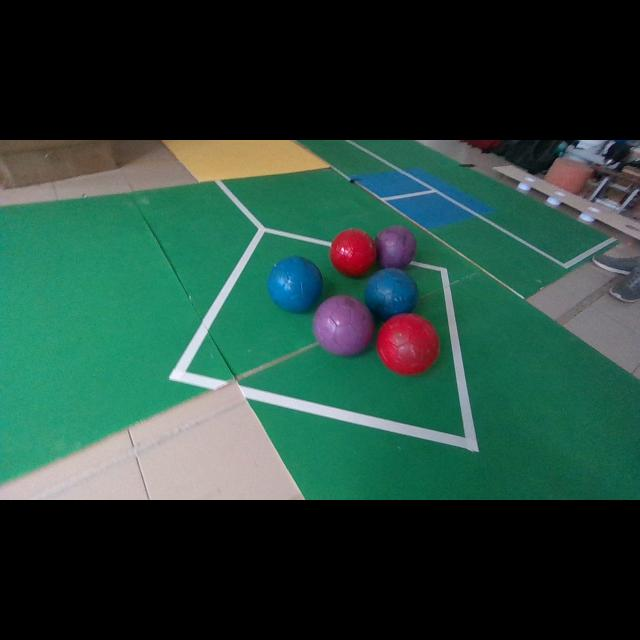B: (268, 256, 322, 312), (365, 268, 418, 320)
P: (312, 295, 374, 356), (375, 225, 416, 268)
R: (376, 312, 440, 375), (330, 229, 376, 276)
